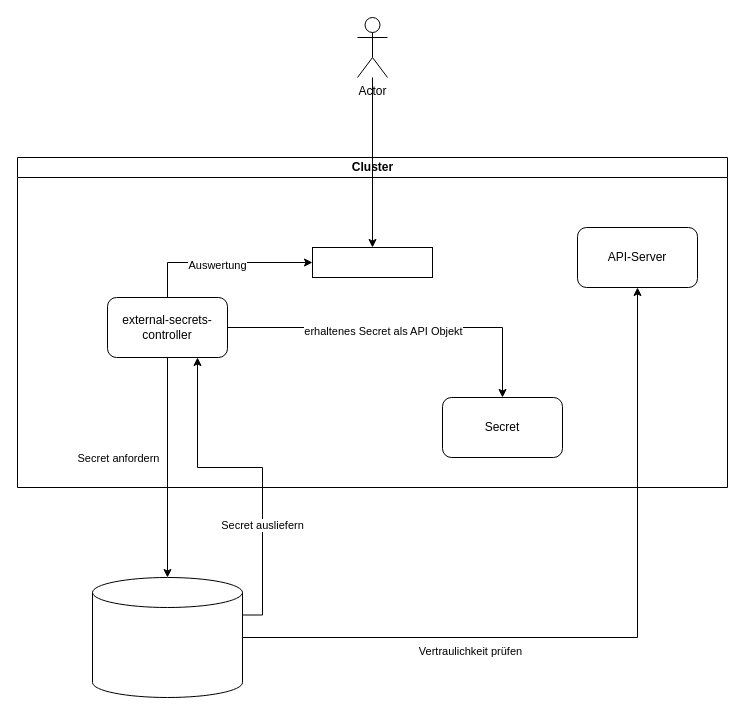
The diagram is 745 pixels wide and 715 high, and some of its shapes have lost their labels. Here are the shapes that lost their labels. From the top down, the box of each, then its label:
(312, 246, 432, 278): ExternalSecret
(92, 576, 242, 698): Hashicorp Vault
